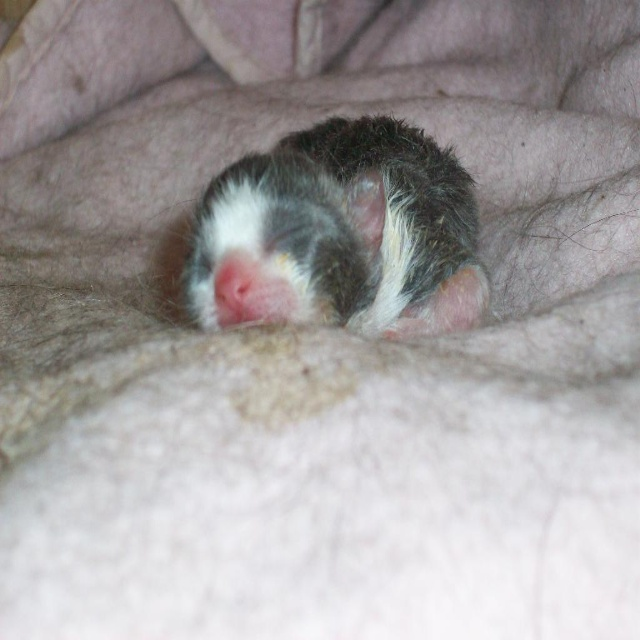Hamster: (169, 108, 493, 342)
